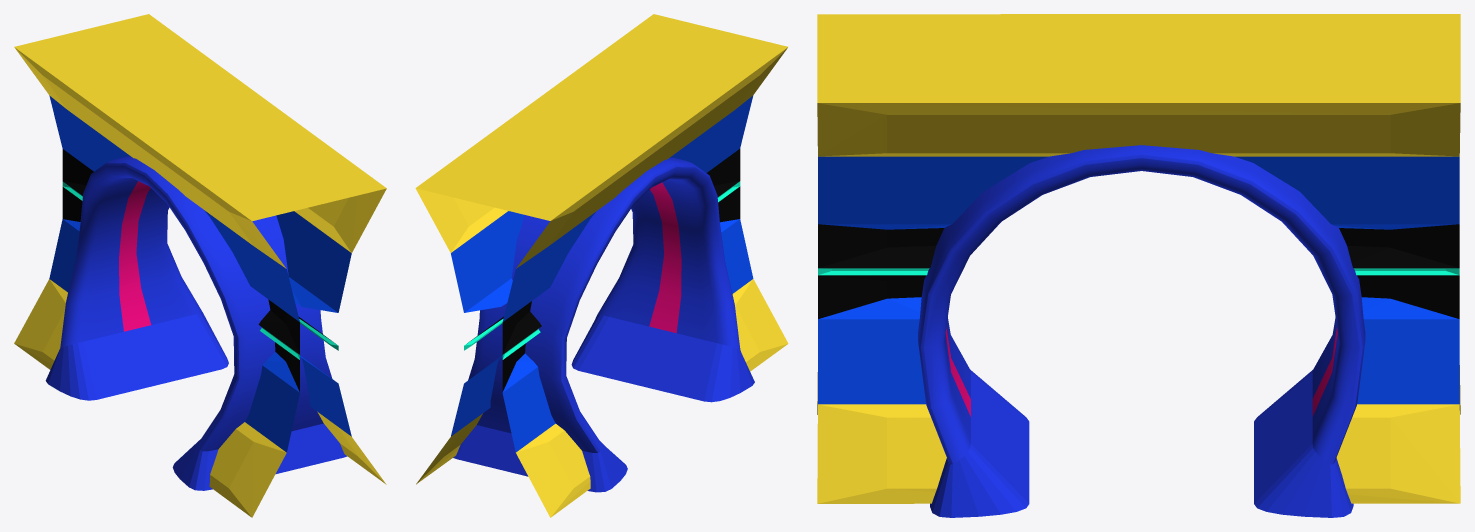
The model's file is LL Narrow Walkway.FBX.
3 views of the same model, side by side, from view 1: azimuth 30°, elevation 25°; view 2: azimuth 150°, elevation 25°; view 3: azimuth 270°, elevation 25° (orthographic). The views are drawn at different scales.
Parts seen in each view (by area): view 1: Object151, Tube026; view 2: Object151, Tube026; view 3: Object151, Tube026.
Part boxes in pixels (x1,y1,x2,y2): Object151: (14, 14, 386, 517); Tube026: (45, 156, 347, 490); Object151: (415, 14, 788, 517); Tube026: (453, 157, 754, 492); Object151: (817, 14, 1460, 503); Tube026: (918, 145, 1365, 517).
Bounding box in the file's own units: 3.8 × 6.61 × 9.53.
